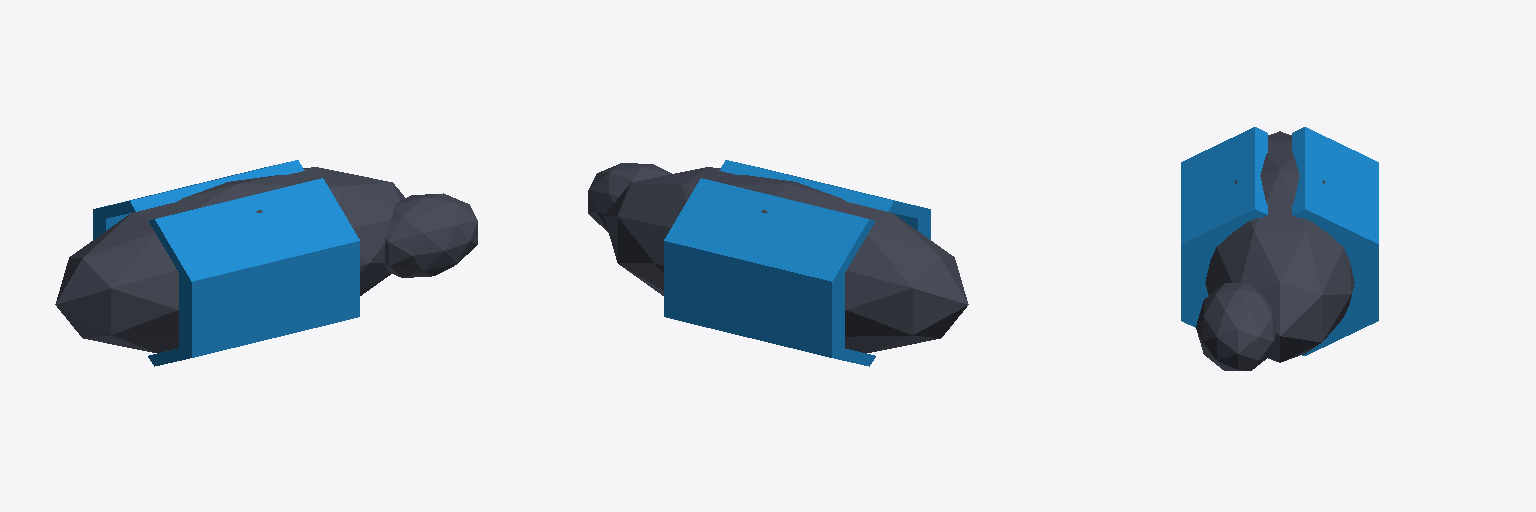
The model's file is forearm.obj.
3 renders of one model, left to right at view 1: azimuth 30°, elevation 25°; view 2: azimuth 150°, elevation 25°; view 3: azimuth 270°, elevation 25°, orthographic.
Size of the model in its own units: 1.1 by 0.4 by 0.4701.